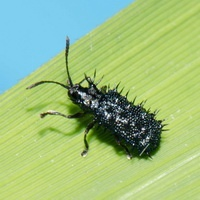insect: (26, 37, 163, 158)
